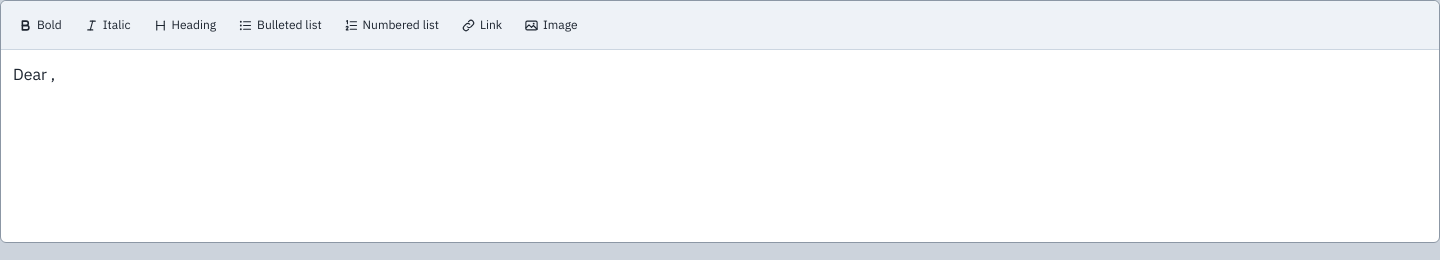
Test case: RichTextEditor field chips › puts a field in as a chip showing its label
Click the field named "Message" at (34, 74), box [13,64,55,84]
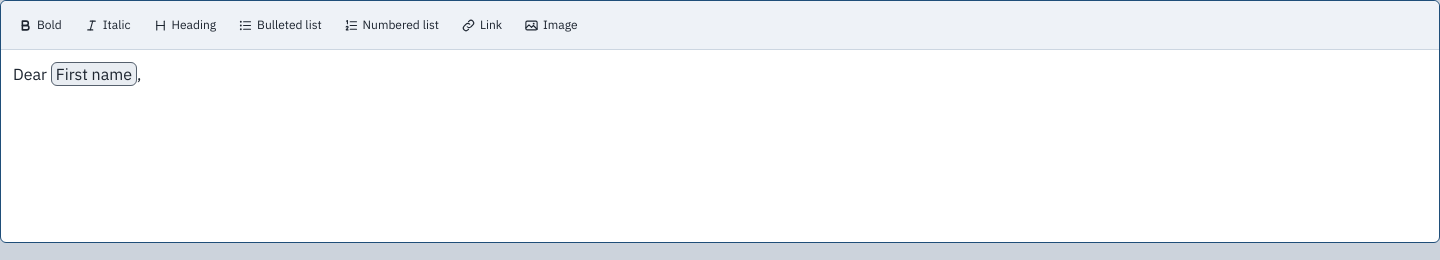
Now the text "First name" is shown, box [51,62,137,86]
Now the text with class "rich-text__field" reads "First name", box [56,64,132,84]
